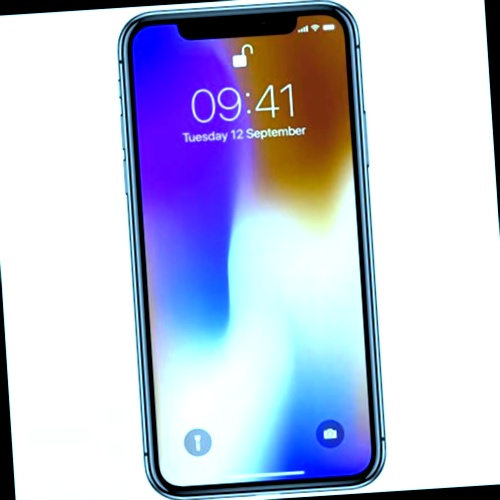iphone: (128, 5, 376, 496)
